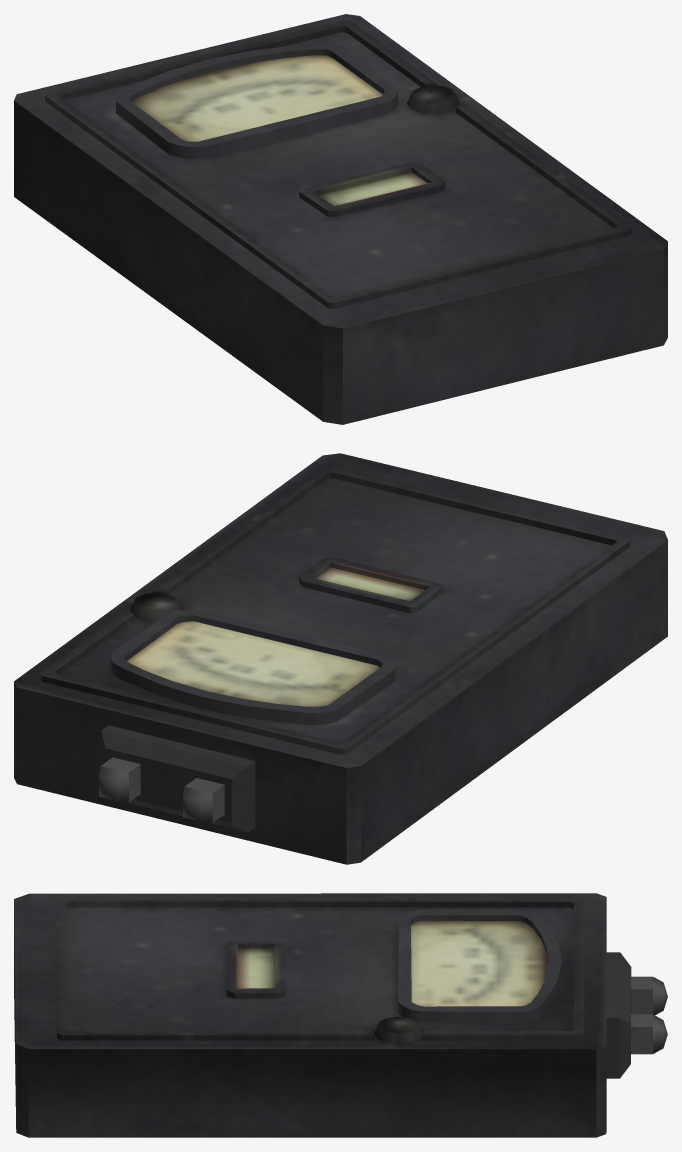
Rendered from dosimeter_4.obj.
The picture shows the model from 3 angles, top to bottom: view 1: azimuth 30°, elevation 25°; view 2: azimuth 150°, elevation 25°; view 3: azimuth 270°, elevation 25°; orthographic projection. The views are drawn at different scales.
Visible parts, largest first — view 1: dosimeter_4; view 2: dosimeter_4; view 3: dosimeter_4.
Part boxes in pixels (x1,y1,x2,y2): dosimeter_4: [14, 14, 667, 424]; dosimeter_4: [14, 453, 667, 864]; dosimeter_4: [14, 893, 667, 1137].
Bounding box in the file's own units: 4.81 × 1.44 × 8.53.
1 material, 1 textured.
